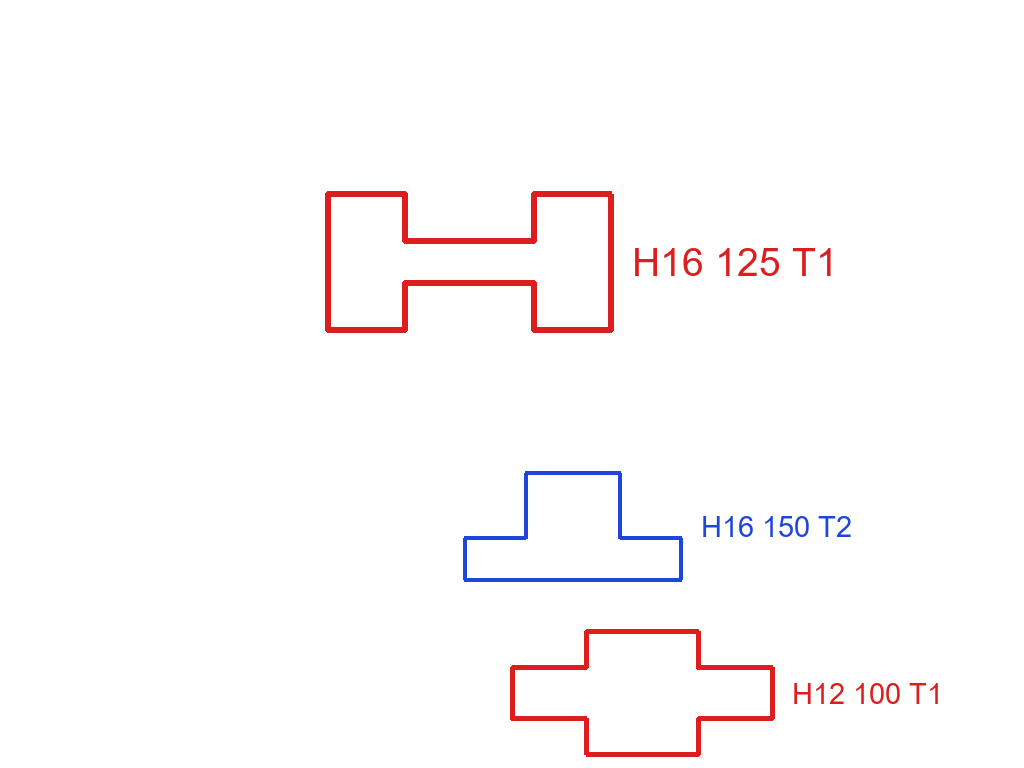shape: (322, 190, 617, 334), (508, 627, 777, 759), (460, 469, 685, 583)
text: (630, 246, 840, 278), (790, 681, 945, 706), (699, 514, 854, 539)
